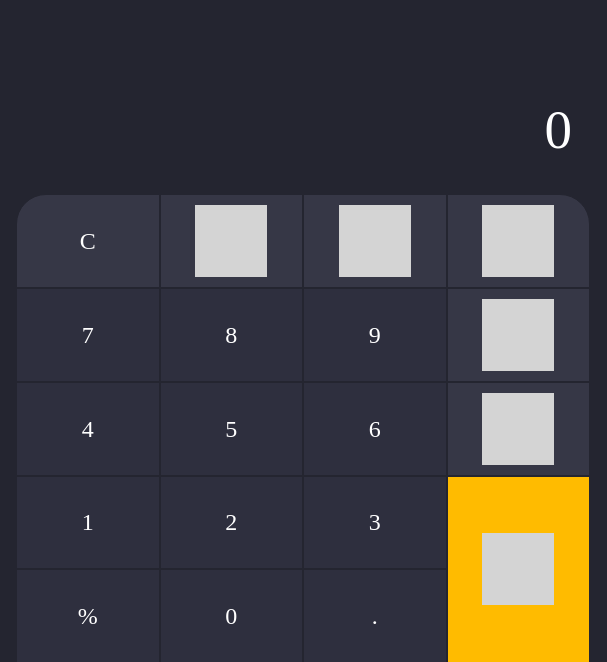
Test case: Calculator tests › Calculator logic '12 + 7'
Click the button "1" at (88, 522), box [16,476,160,569]
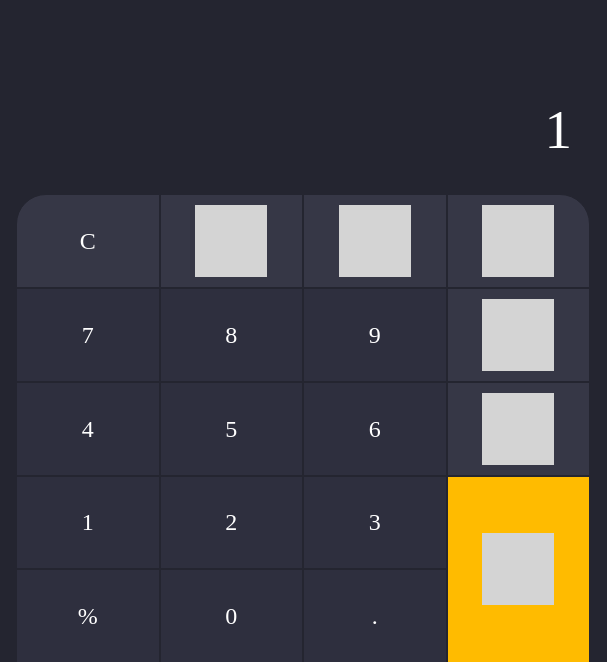
Click the button "2" at (231, 522), box [160,476,303,569]
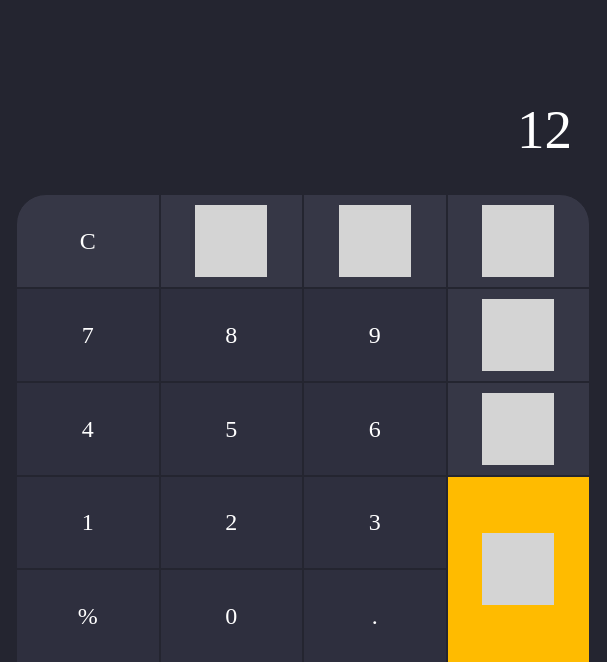
Click the 5th button with alt text "+" at (518, 429), box [446,382,590,476]
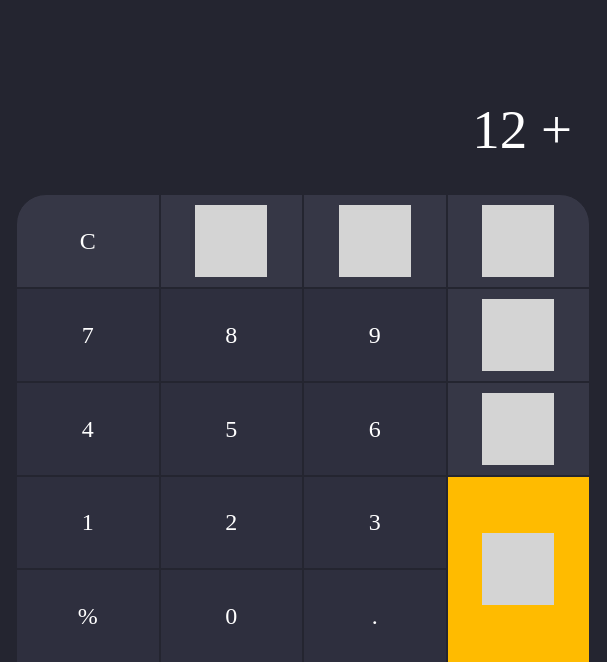
Click the button "7" at (88, 335), box [16,288,160,382]
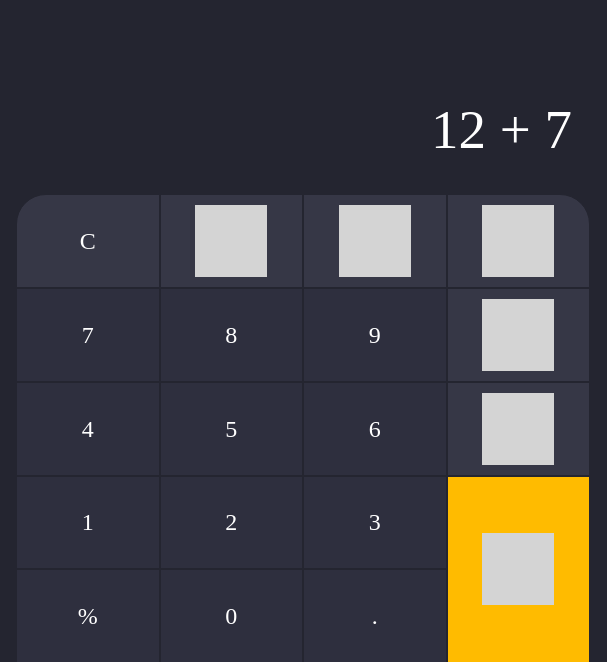
Click the 6th button with alt text "=" at (518, 569), box [446,476,590,661]
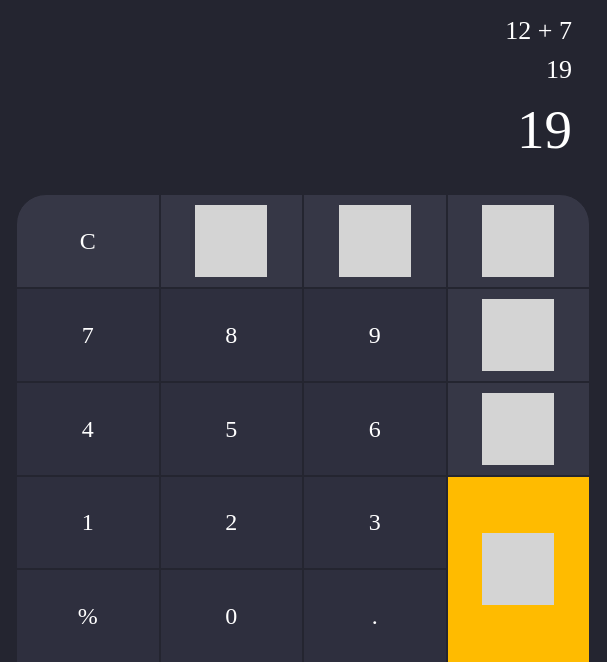
Now the text with test id "expression" reads "19", box [517,99,572,160]
Now the element with test id "history" reads "12 + 7 19", box [505,16,572,84]
